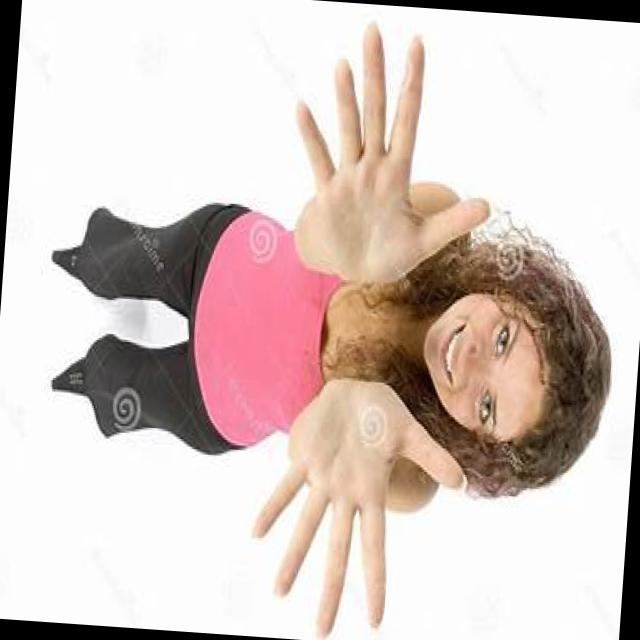not-gloved: (271, 0, 509, 306), (247, 372, 483, 640)
